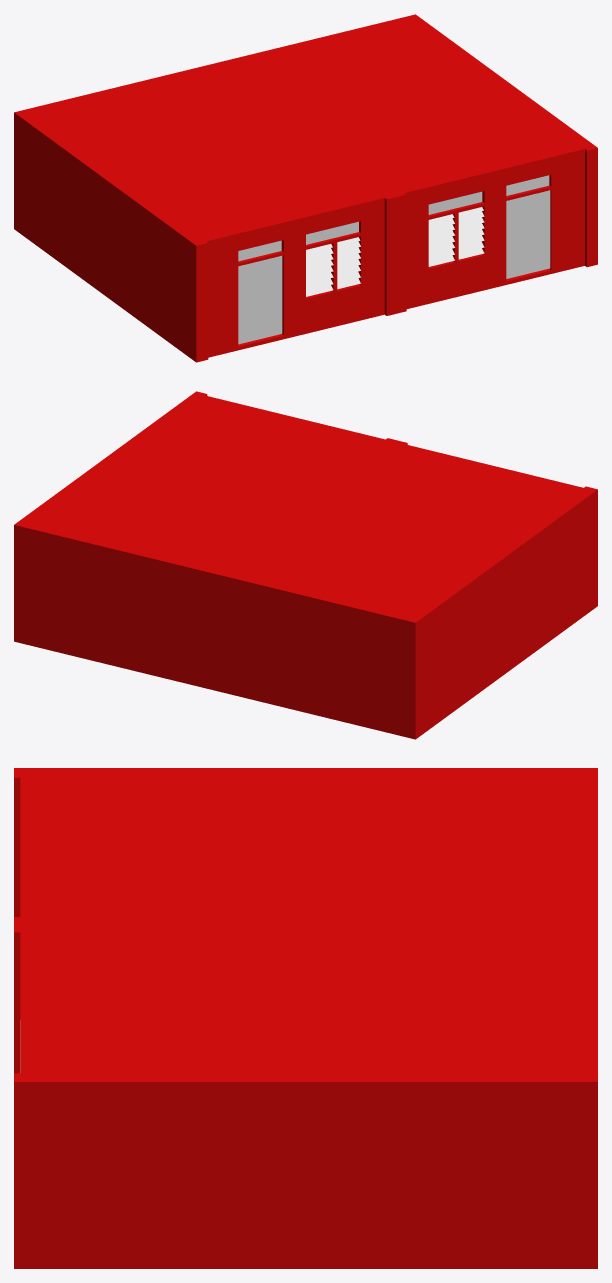
File: room.glb
The picture shows the model from 3 angles, top to bottom: view 1: azimuth 30°, elevation 25°; view 2: azimuth 150°, elevation 25°; view 3: azimuth 270°, elevation 25°; orthographic projection. The views are drawn at different scales.
Visible parts, largest first — view 1: Room Middle; view 2: Room Middle; view 3: Room Middle.
Part boxes in pixels (box(x1,y1,x2,y2)): Room Middle: box(14, 14, 597, 362); Room Middle: box(14, 391, 597, 739); Room Middle: box(14, 768, 597, 1268).
Bounding box in the file's own units: 18 × 5 × 14.16.
